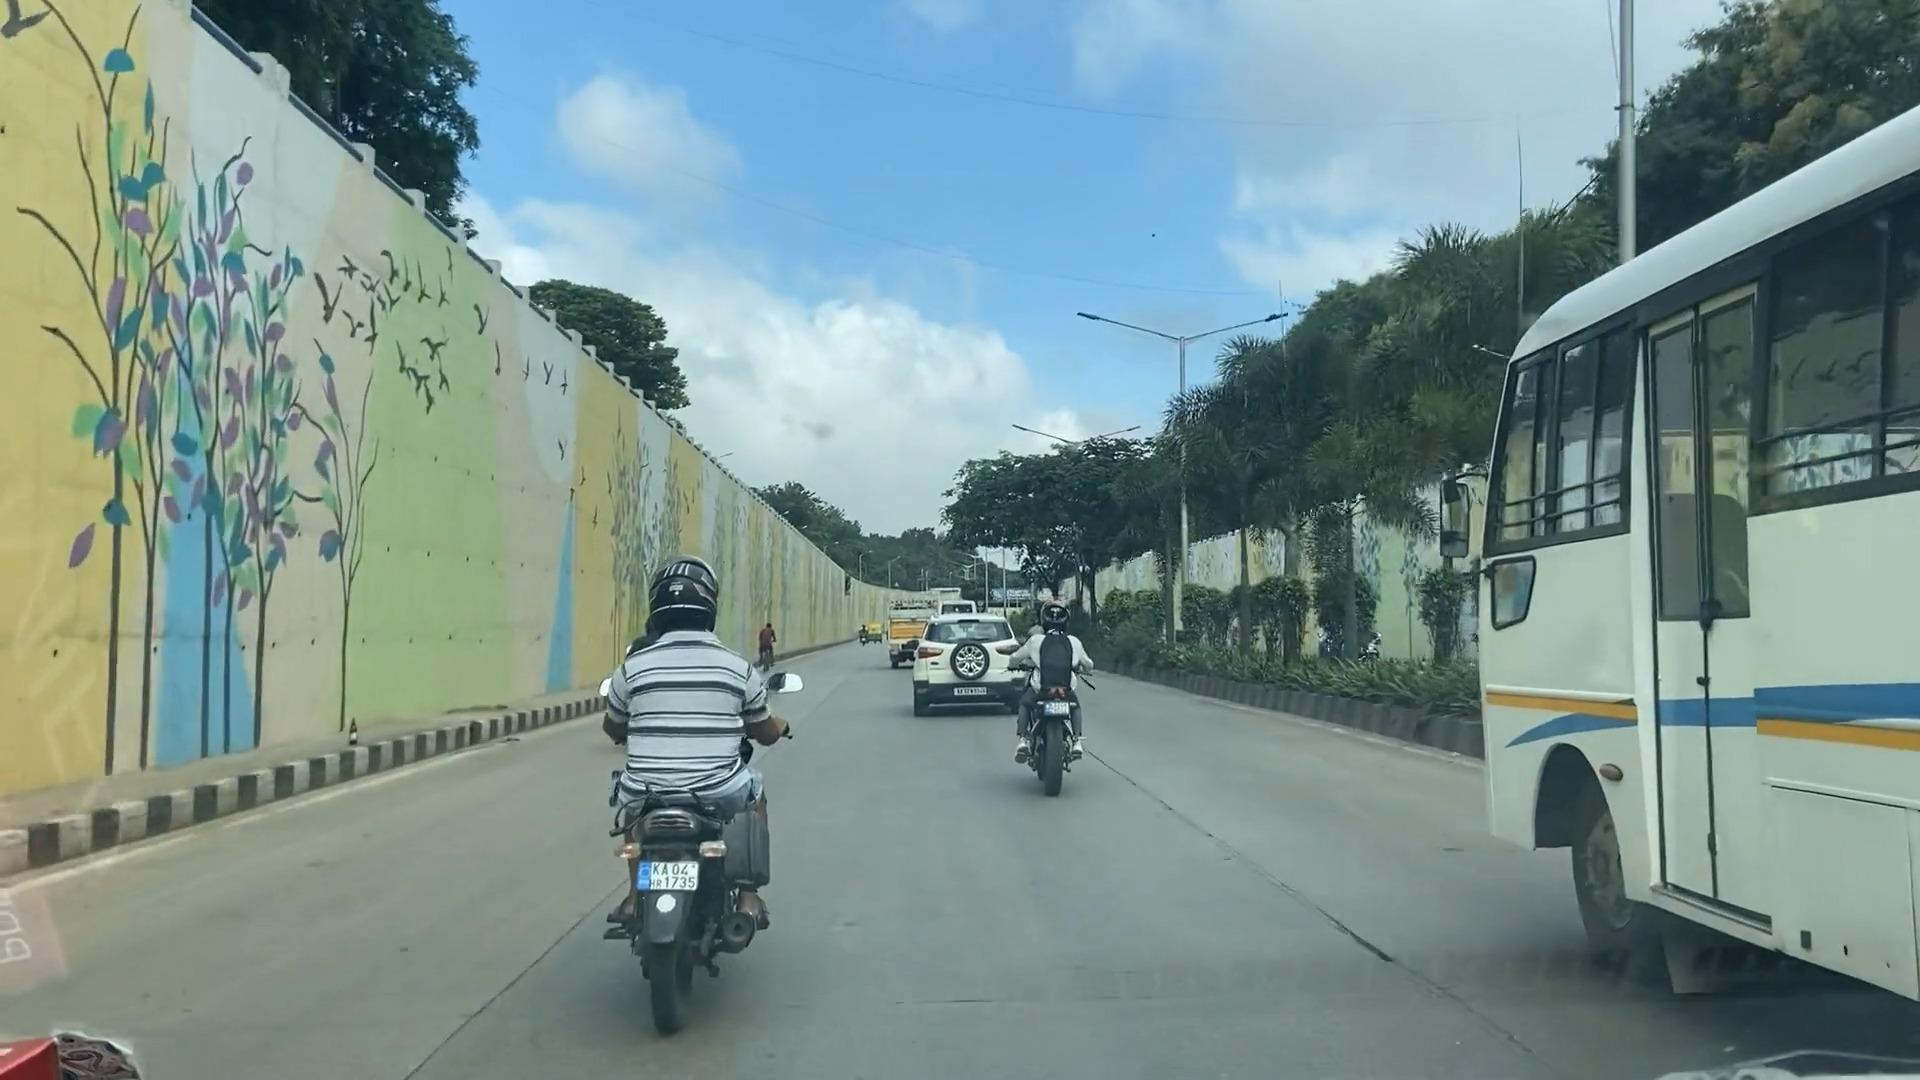LMV: (615, 560, 767, 1000), (1021, 588, 1077, 782), (913, 622, 1017, 709)
